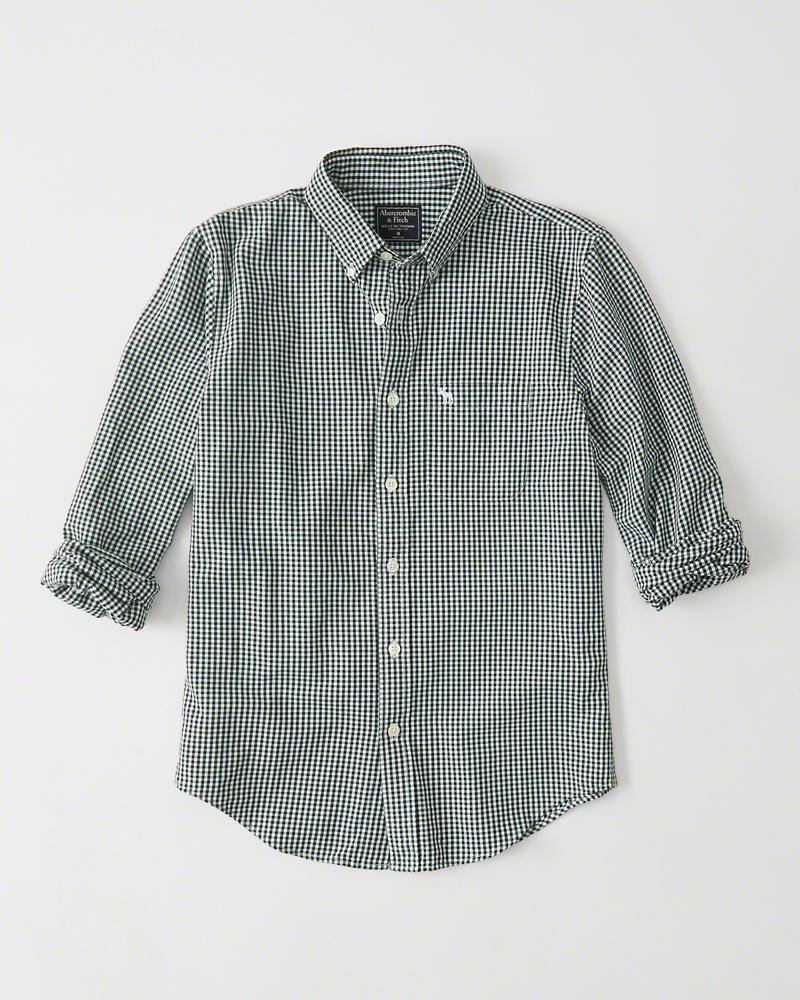teeshirt: (45, 134, 755, 880)
